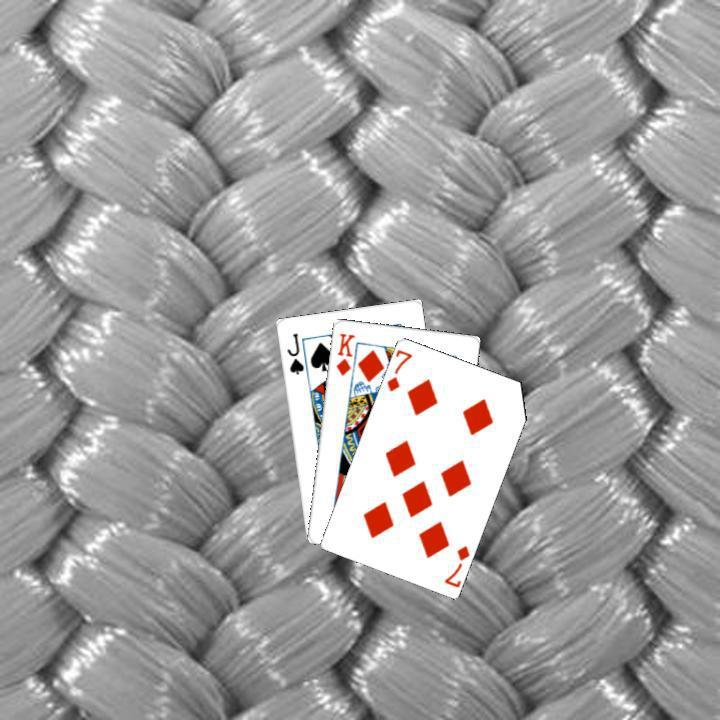7: (382, 345, 414, 393), (440, 540, 471, 588)
J: (282, 329, 305, 376)
K: (331, 328, 356, 378)
